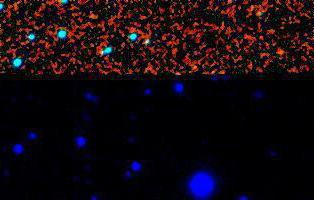star: (263, 37, 293, 67)
